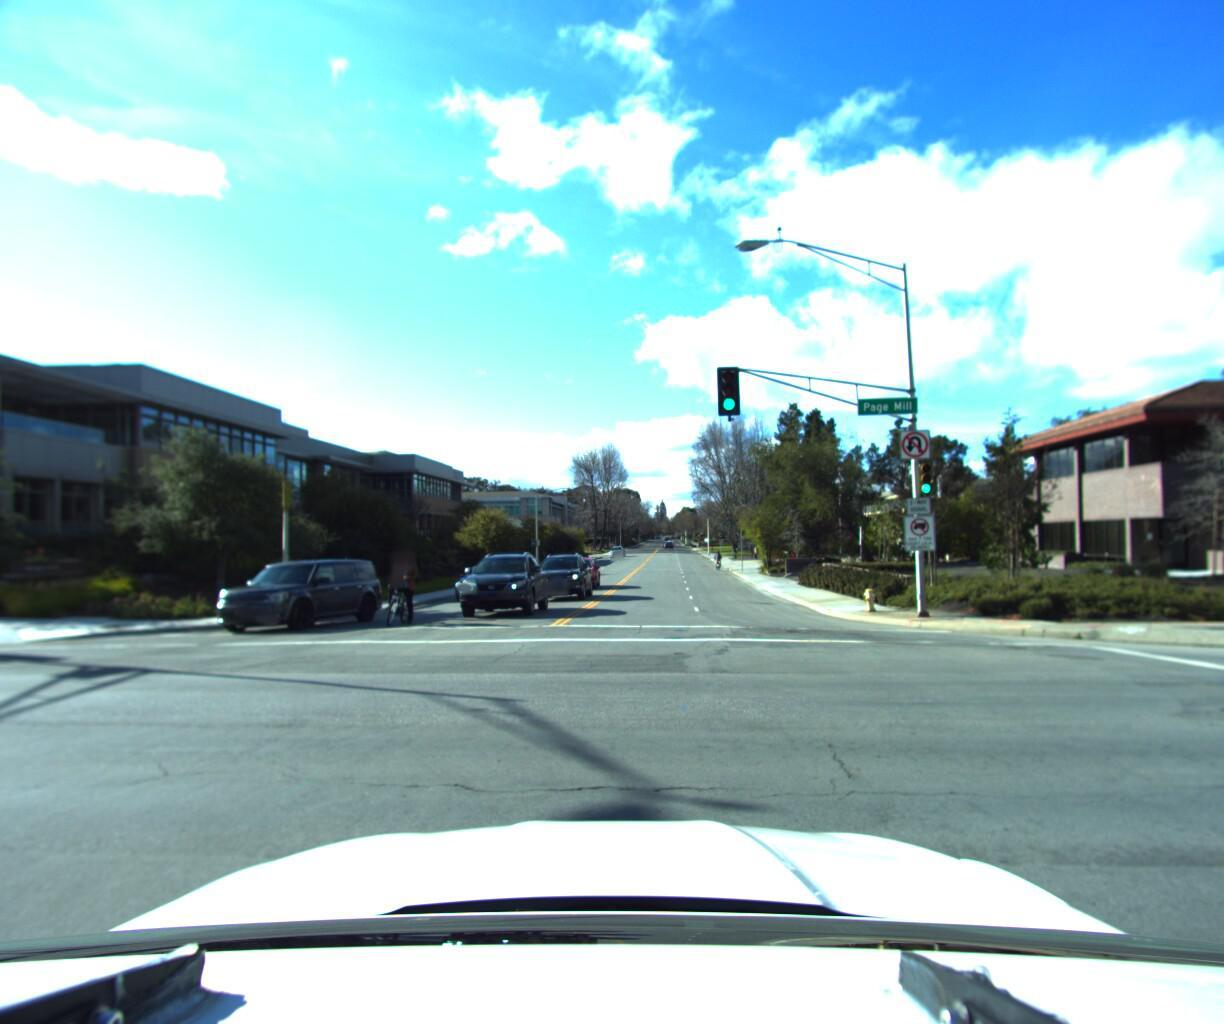bicycle: (367, 544, 432, 633), (711, 546, 723, 569)
car: (202, 552, 391, 642), (455, 548, 556, 626), (452, 558, 530, 601), (529, 550, 595, 600), (554, 552, 603, 587)
